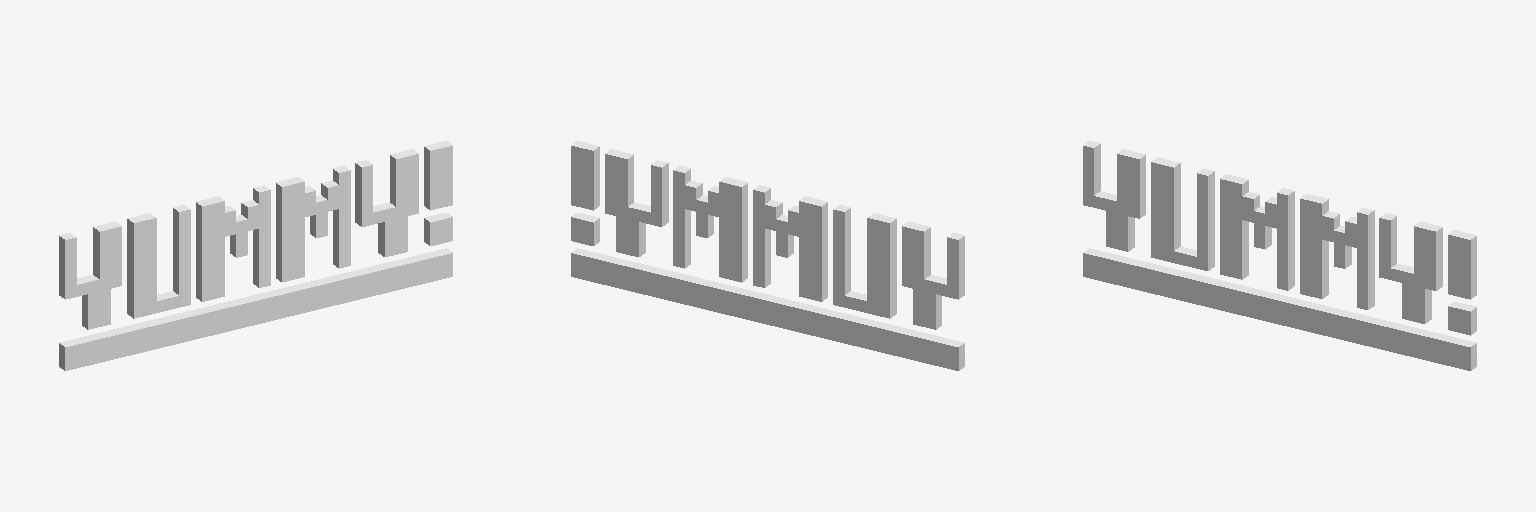
File: yumShare.obj
The picture shows the model from 3 angles: view 1: azimuth 30°, elevation 25°; view 2: azimuth 150°, elevation 25°; view 3: azimuth 330°, elevation 25°; orthographic projection.
Bounding box in the file's own units: 34 × 11 × 1.